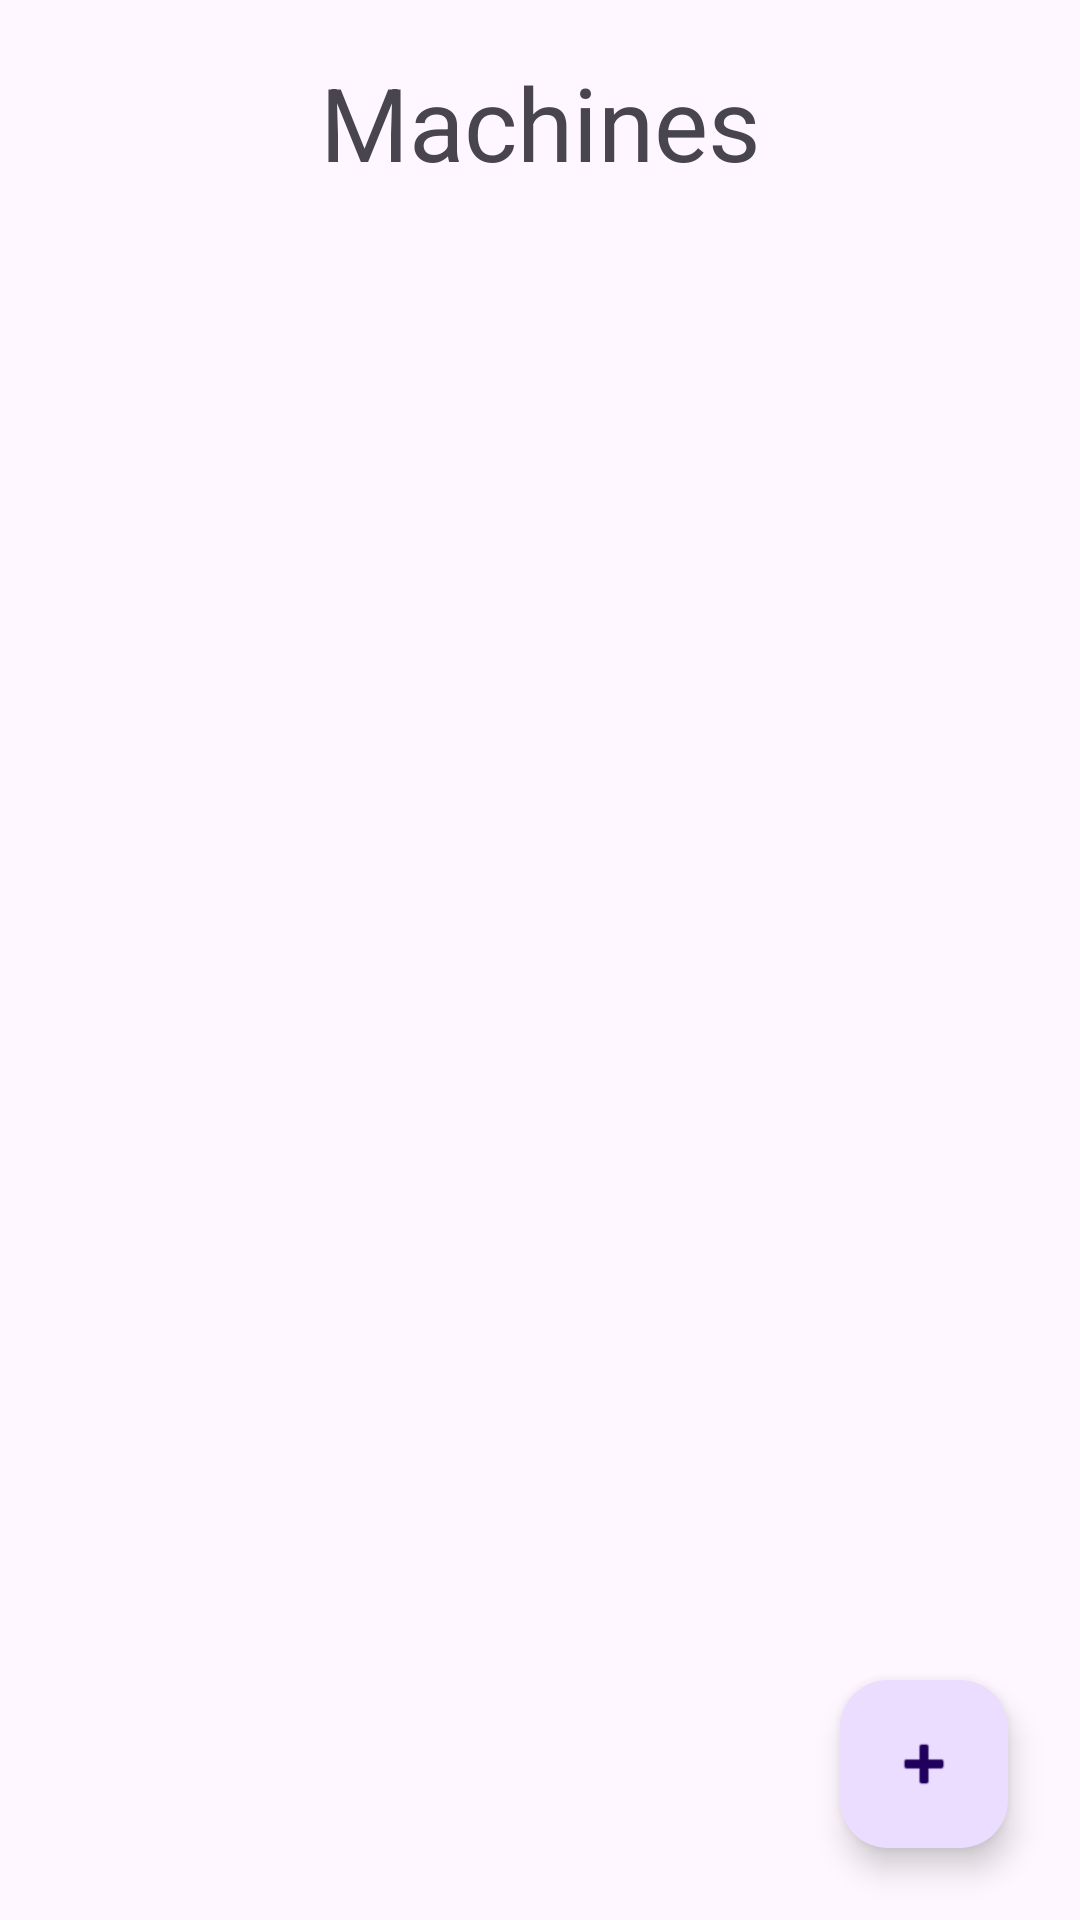

Icons on this 1080px×1920px Android screen, each with the point to tap as point (x, y):
Add Machine: point (924, 1764)
